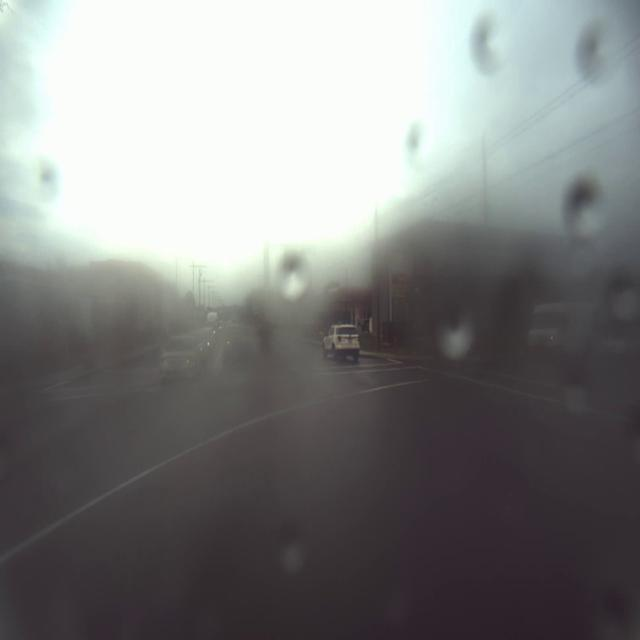car: (321, 320, 363, 364)
